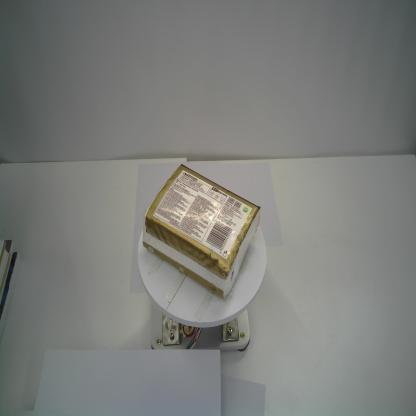Tissue: (140, 162, 261, 301)
